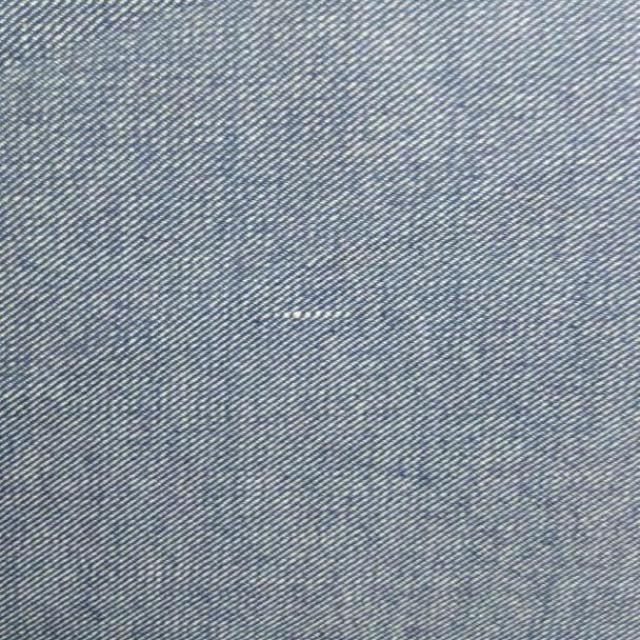Knot: (260, 309, 353, 321)
